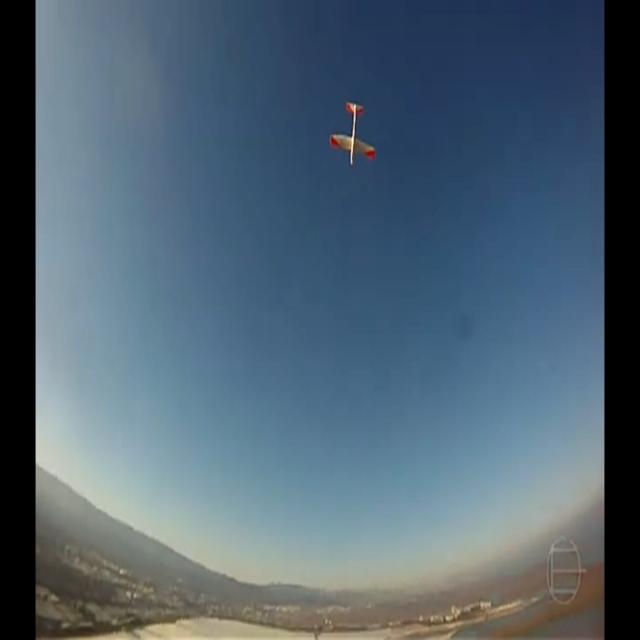iha: (329, 132, 376, 136)
